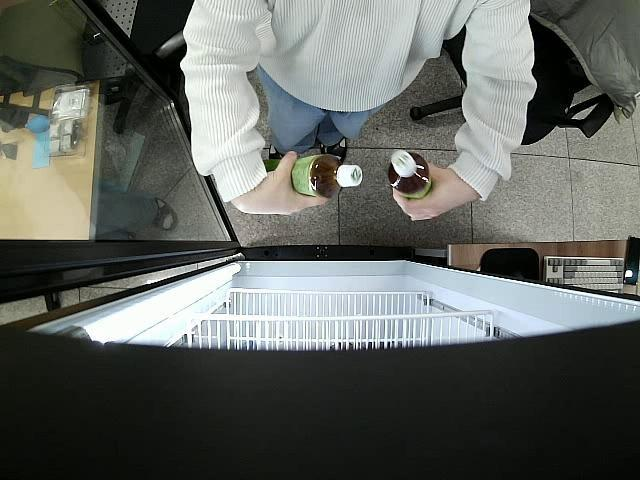19_17cha: (263, 154, 364, 198), (389, 148, 433, 202)
